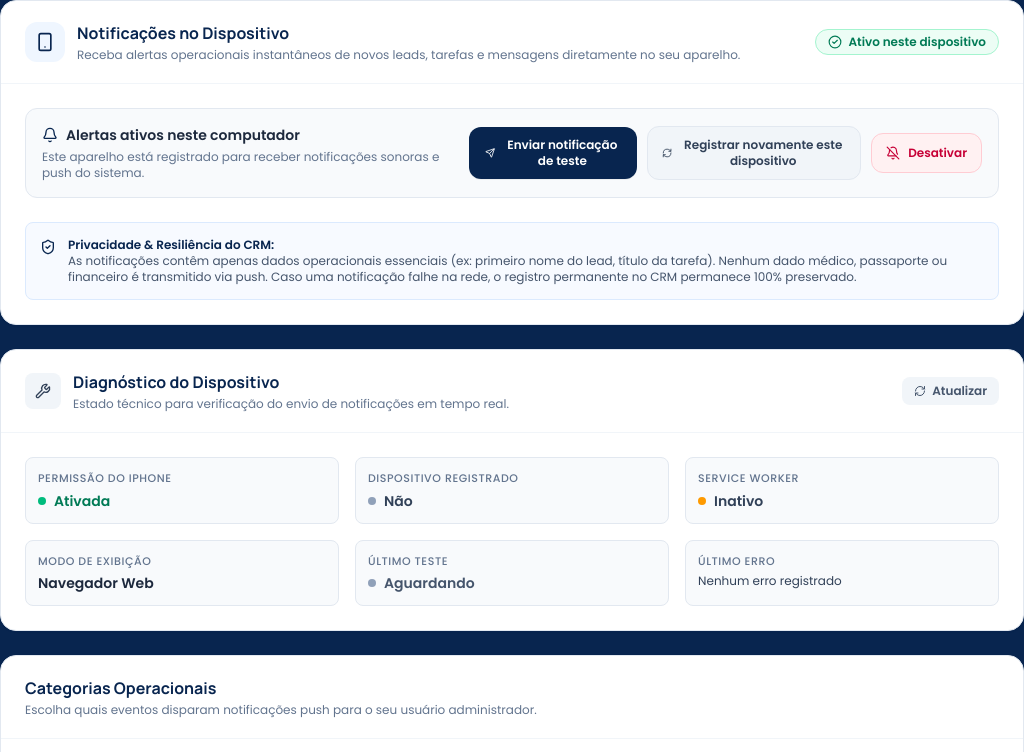
Test case: EDS HUB — Settings Mobile Layout & Test Push Notification › Notification Settings — Test Push Action › sends real test push when device is subscribed and displays success feedback
The image size is (1024, 752).
Check: the text "Enviar notificação de teste" is shown, box [504,137,621,169]
Click the button with id "btn-test-push" at (553, 153), box [469,127,637,179]
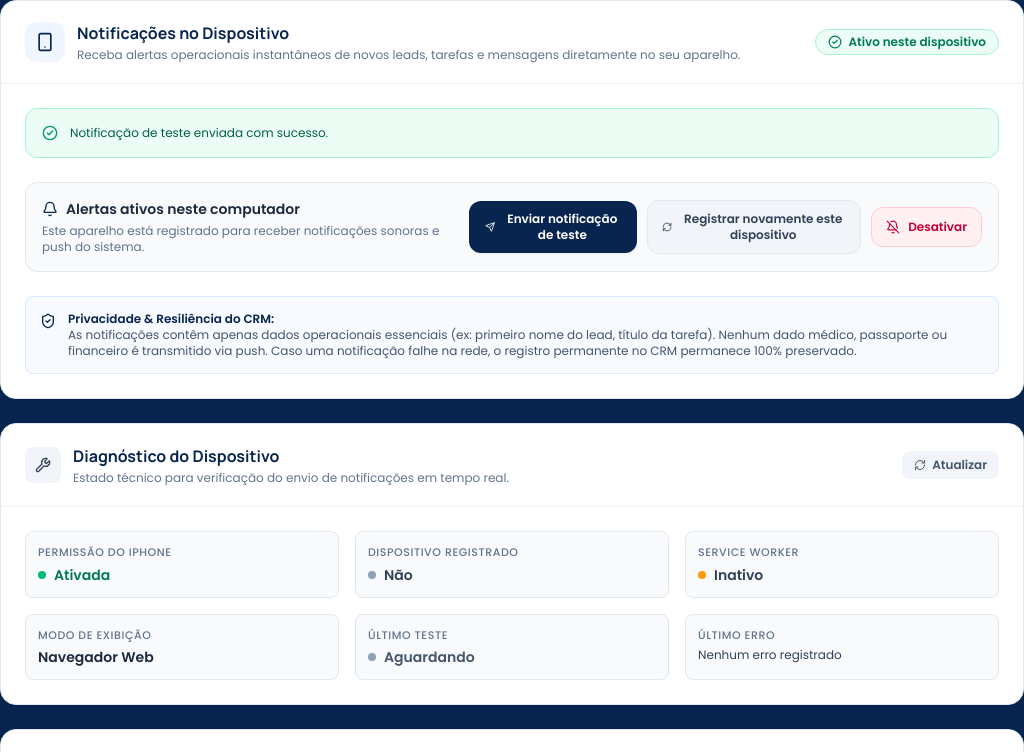
Check: the text "Notificação de teste enviada com sucesso." is shown, box [70,125,328,141]
